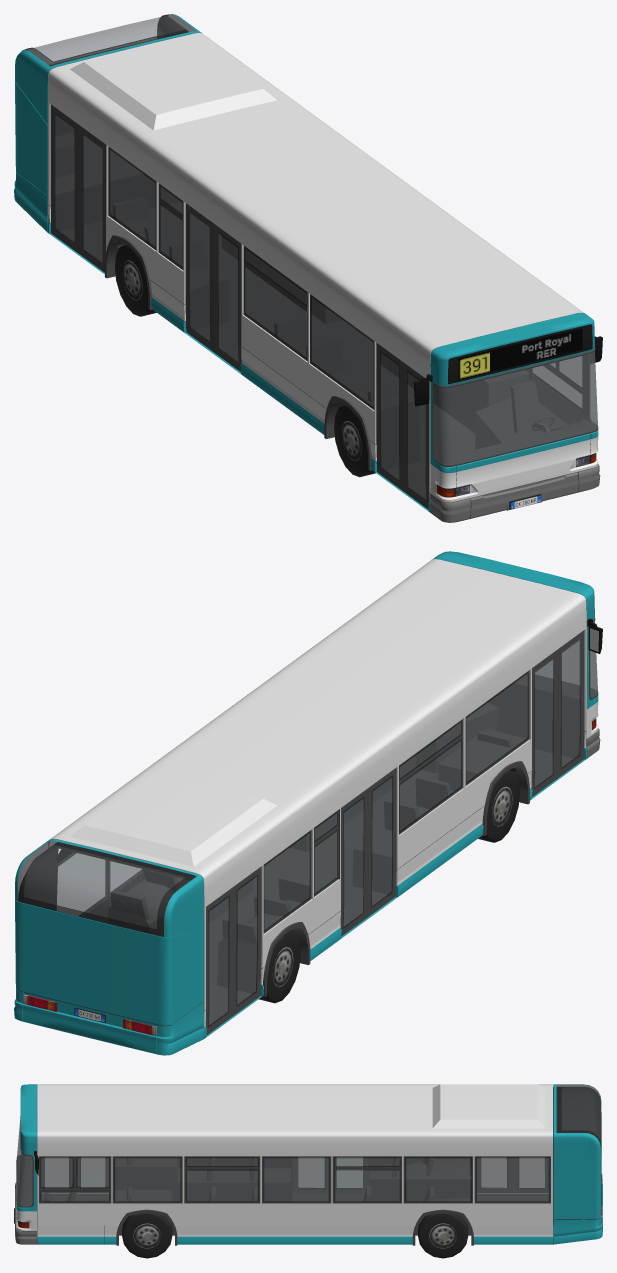
File: sweethome3d-scopia-city-bus.glb
The picture shows the model from 3 angles, top to bottom: view 1: azimuth 30°, elevation 25°; view 2: azimuth 150°, elevation 25°; view 3: azimuth 270°, elevation 25°; orthographic projection. The views are drawn at different scales.
Visible parts, largest first — view 1: sidesBus_Plane.003, interior_Plane.007, frontBus_Plane.002, frontGlass_Plane, backBus_Plane.005, numberOrName_Plane.006, tires_Plane.011, plasticsWheels_Plane.004, textureWheels_Plane.010, frontGlassPlastic_Plane.001, textured_Plane.008, rearviews_Cube.001; view 2: sidesBus_Plane.003, backBus_Plane.005, interior_Plane.007, frontBus_Plane.002, tires_Plane.011, plasticsWheels_Plane.004, textureWheels_Plane.010, frontGlass_Plane, textured_Plane.008; view 3: sidesBus_Plane.003, interior_Plane.007, backBus_Plane.005, tires_Plane.011, frontBus_Plane.002, textureWheels_Plane.010, frontGlass_Plane, plasticsWheels_Plane.004.
Part boxes in pixels (x1=…): sidesBus_Plane.003: x1=47, y1=33, x2=583, y2=512; interior_Plane.007: x1=51, y1=16, x2=596, y2=501; frontBus_Plane.002: x1=429, y1=312, x2=600, y2=522; frontGlass_Plane: x1=433, y1=351, x2=597, y2=464; backBus_Plane.005: x1=14, y1=14, x2=201, y2=232; numberOrName_Plane.006: x1=458, y1=328, x2=582, y2=379; tires_Plane.011: x1=114, y1=244, x2=375, y2=477; plasticsWheels_Plane.004: x1=104, y1=235, x2=371, y2=470; textureWheels_Plane.010: x1=122, y1=260, x2=361, y2=461; frontGlassPlastic_Plane.001: x1=432, y1=348, x2=598, y2=466; textured_Plane.008: x1=437, y1=453, x2=596, y2=509; rearviews_Cube.001: x1=413, y1=336, x2=602, y2=406; sidesBus_Plane.003: x1=48, y1=559, x2=587, y2=1038; backBus_Plane.005: x1=14, y1=839, x2=204, y2=1055; interior_Plane.007: x1=18, y1=674, x2=597, y2=1027; frontBus_Plane.002: x1=433, y1=551, x2=600, y2=758; tires_Plane.011: x1=259, y1=770, x2=519, y2=1003; plasticsWheels_Plane.004: x1=263, y1=761, x2=529, y2=996; textureWheels_Plane.010: x1=272, y1=786, x2=512, y2=987; frontGlass_Plane: x1=535, y1=621, x2=597, y2=697; textured_Plane.008: x1=23, y1=718, x2=596, y2=1036; sidesBus_Plane.003: x1=37, y1=1084, x2=553, y2=1244; interior_Plane.007: x1=17, y1=1087, x2=601, y2=1225; backBus_Plane.005: x1=553, y1=1084, x2=602, y2=1244; tires_Plane.011: x1=122, y1=1213, x2=468, y2=1258; frontBus_Plane.002: x1=15, y1=1084, x2=37, y2=1244; textureWheels_Plane.010: x1=133, y1=1223, x2=456, y2=1248; frontGlass_Plane: x1=16, y1=1116, x2=32, y2=1205; plasticsWheels_Plane.004: x1=116, y1=1209, x2=473, y2=1245.
Bounding box in the file's own units: 303 × 302 × 1219.
14 materials, 1 textured.
